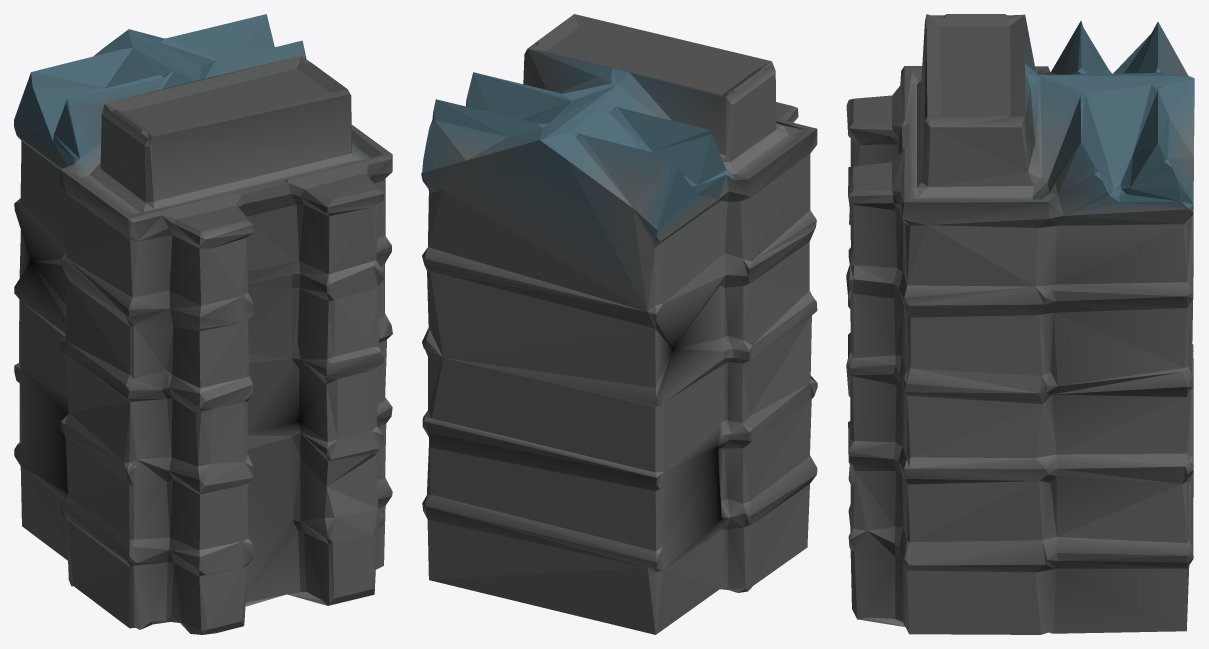
File: Apartment Buildings(5).glb
The picture shows the model from 3 angles, left to right: view 1: azimuth 30°, elevation 25°; view 2: azimuth 150°, elevation 25°; view 3: azimuth 270°, elevation 25°; orthographic projection. The views are drawn at different scales.
Parts seen in each view (by area): view 1: Root; view 2: Root; view 3: Root.
Boxes of the visible parts, <box> form: Root: <box>14,14,392,634</box>; Root: <box>421,14,817,634</box>; Root: <box>846,14,1194,634</box>.
Size of the model in its own units: 11.57 by 20.03 by 12.45.
